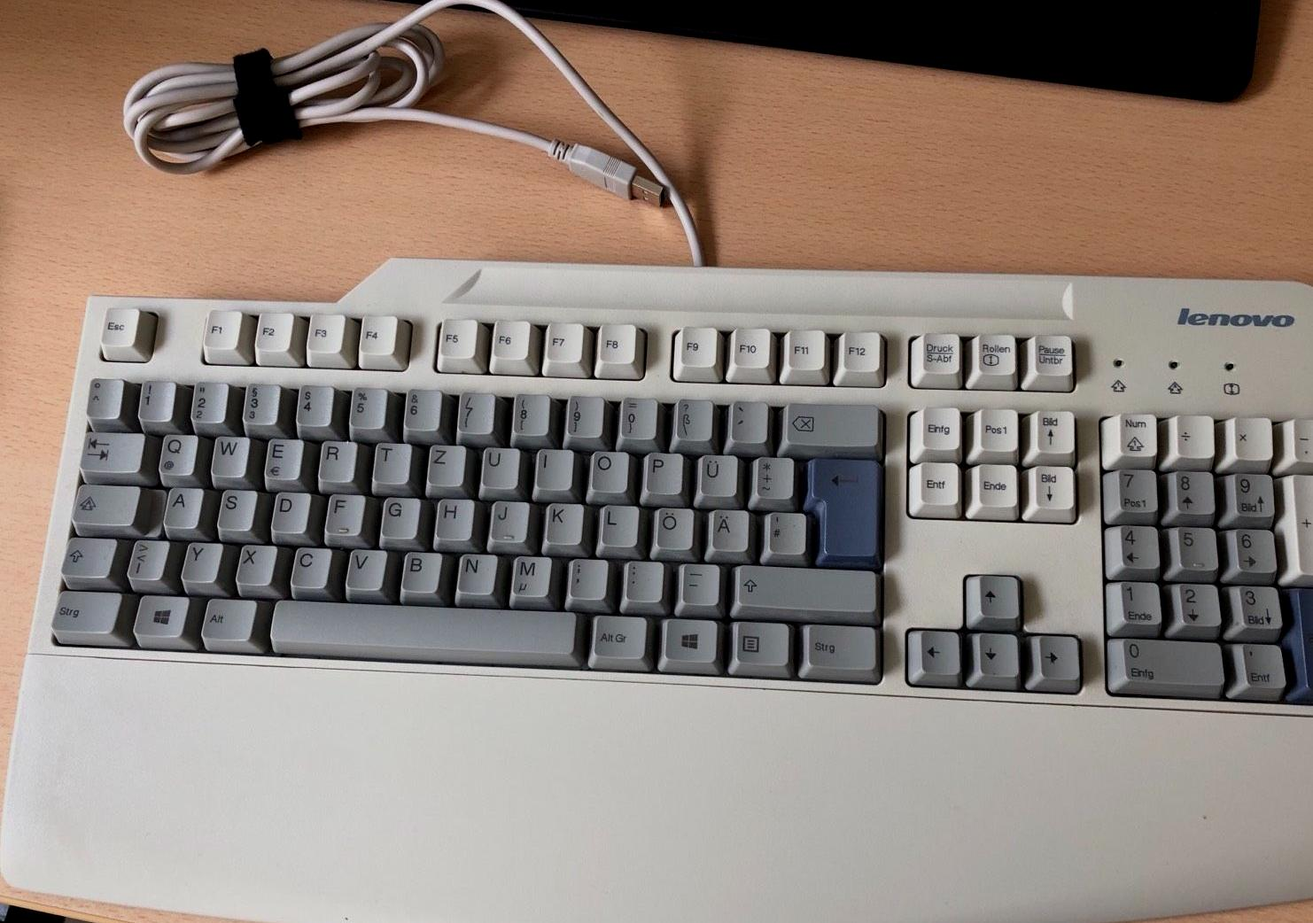0: (615, 393, 656, 438)
1: (135, 377, 175, 420)
2: (188, 378, 227, 423)
3: (239, 381, 279, 424)
4: (293, 382, 332, 425)
5: (346, 384, 386, 427)
6: (400, 385, 441, 430)
7: (455, 389, 494, 433)
8: (508, 390, 549, 435)
9: (562, 392, 603, 436)
a: (160, 483, 201, 527)
accent: (726, 397, 767, 441)
ae: (705, 505, 749, 550)
alt-left: (197, 594, 255, 640)
altgr-right: (587, 611, 646, 658)
b: (397, 547, 441, 590)
c: (287, 543, 330, 586)
caret: (84, 375, 122, 416)
comma: (564, 555, 607, 598)
d: (268, 488, 309, 531)
del: (780, 399, 876, 446)
e: (260, 434, 302, 478)
enter: (804, 453, 879, 555)
f: (322, 490, 363, 535)
g: (377, 493, 419, 537)
h: (431, 495, 473, 538)
hash: (762, 508, 805, 553)
i: (532, 446, 572, 488)
j: (486, 497, 528, 542)
k: (541, 499, 583, 543)
keyboard: (21, 279, 1313, 717)
l: (596, 500, 638, 546)
less: (123, 535, 168, 579)
m: (507, 552, 551, 596)
minus: (675, 560, 719, 603)
n: (454, 550, 496, 593)
o: (585, 446, 627, 491)
oe: (649, 503, 693, 548)
p: (640, 448, 682, 493)
plus: (749, 453, 793, 498)
point: (620, 557, 663, 601)
q: (155, 430, 197, 475)
r: (315, 437, 355, 480)
s: (214, 485, 255, 530)
shift-left: (57, 534, 114, 577)
shift-lock: (69, 481, 139, 524)
shift-right: (731, 562, 875, 609)
space: (266, 599, 578, 658)
ss: (671, 395, 712, 439)
strg-left: (46, 586, 120, 633)
strg-right: (796, 620, 877, 671)
t: (370, 438, 410, 482)
tab: (77, 428, 143, 471)
u: (478, 444, 519, 487)
ue: (694, 450, 737, 496)
v: (342, 545, 386, 588)
w: (208, 431, 248, 476)
x: (233, 540, 276, 584)
y: (178, 539, 221, 580)
z: (423, 440, 464, 485)
